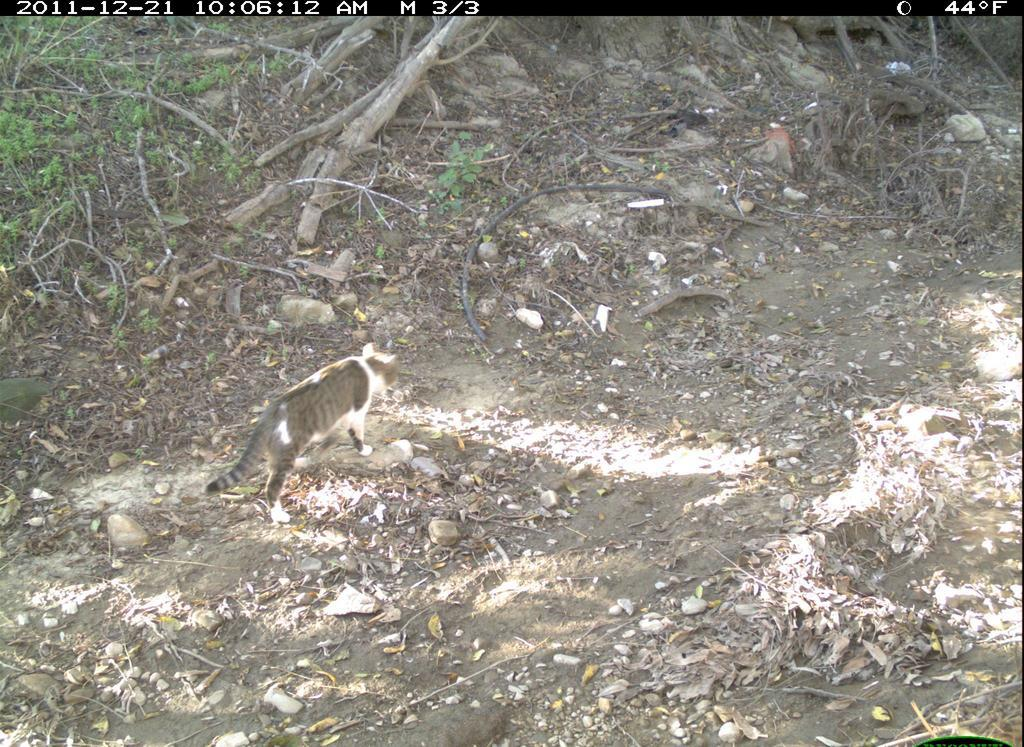cat: (97, 199, 592, 566)
